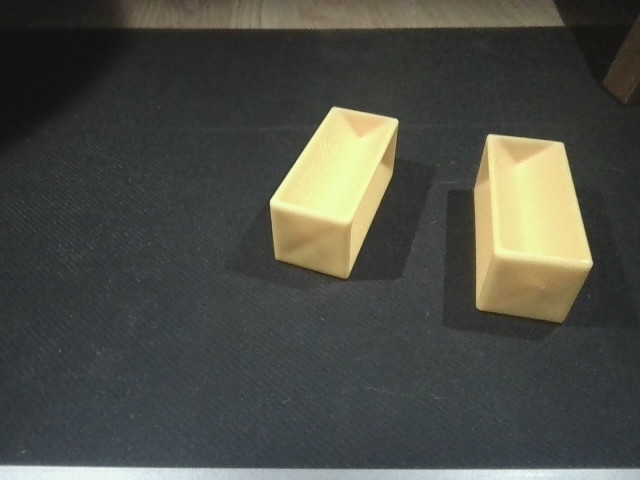YellowSample: (467, 130, 597, 329), (265, 102, 402, 288)
